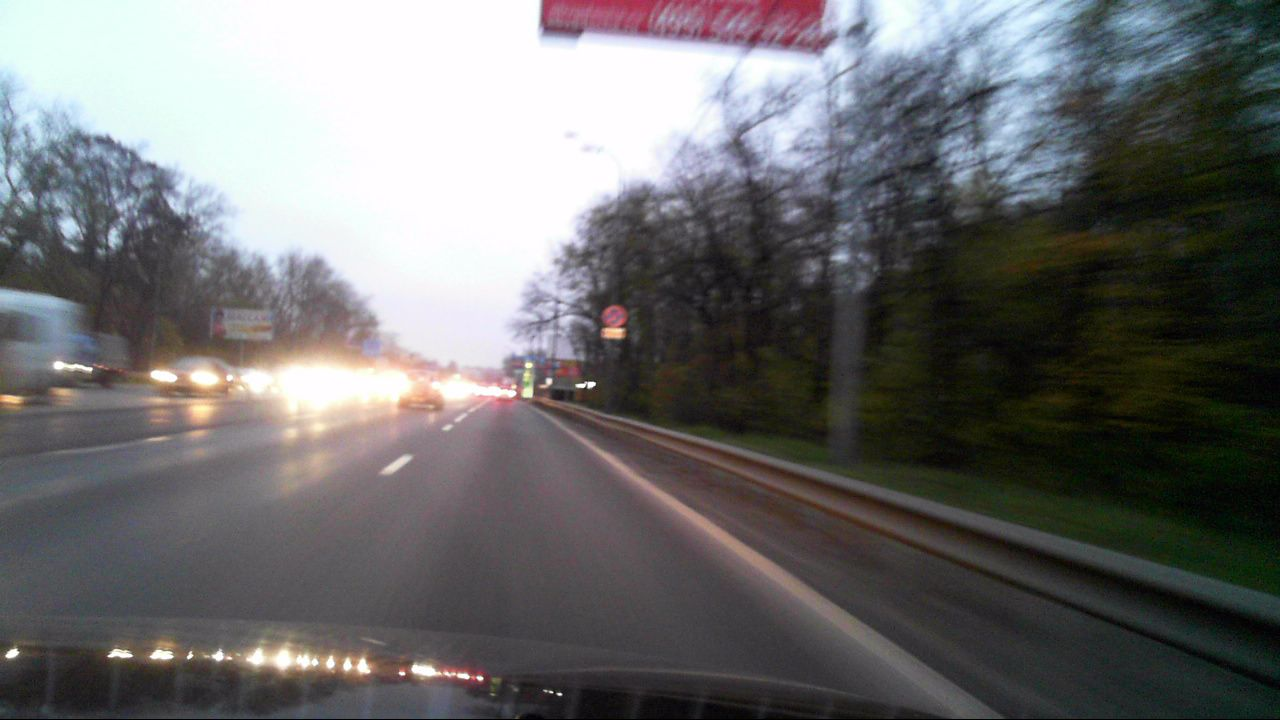No Parking: (602, 304, 625, 327)
